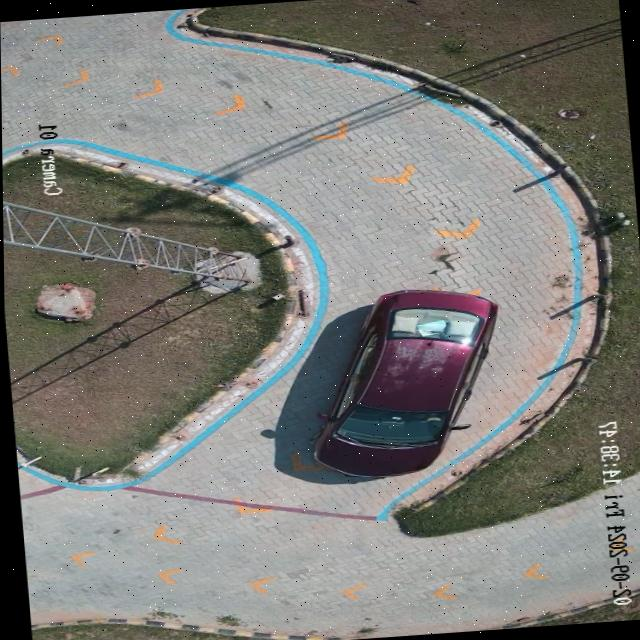car: (310, 288, 497, 479)
